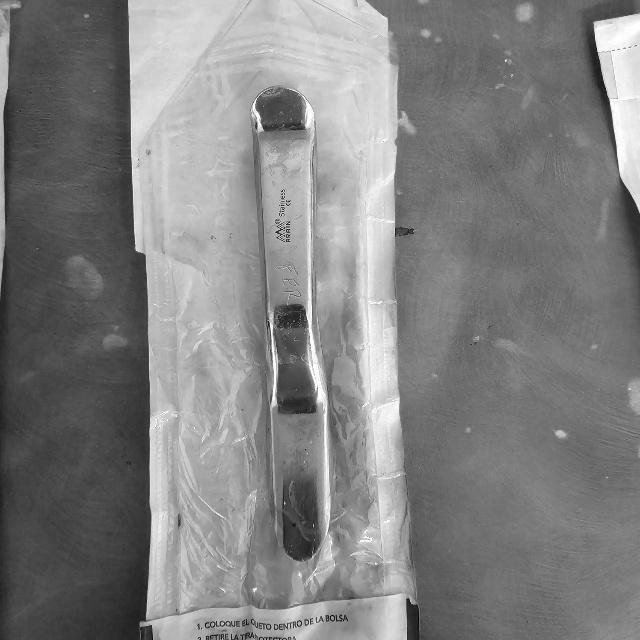separador: (251, 86, 331, 565)
